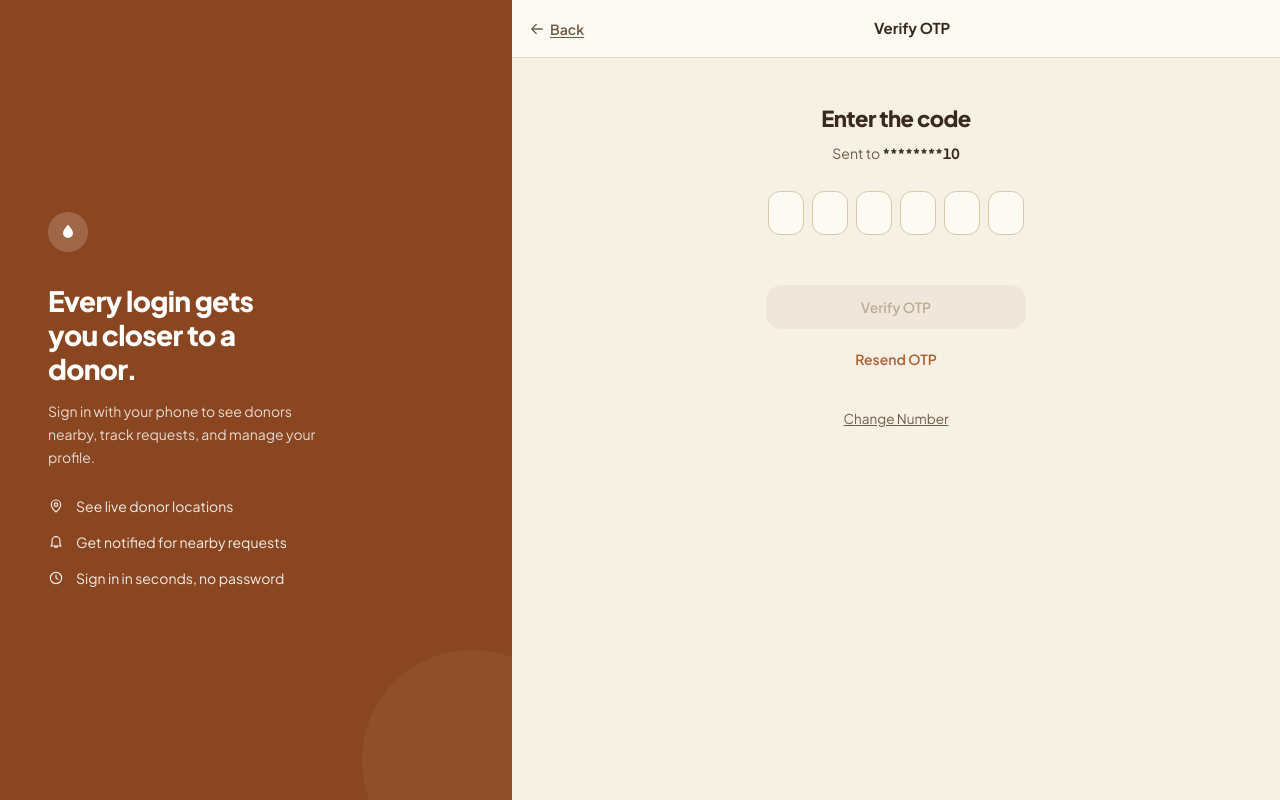
Test: OtpVerificationPage › TC-CHH-F01-44: shows a resend error and keeps Resend usable if resend fails
What coordinates should you click on to do the following:
click the button "Resend OTP"
I would click on:
 (896, 359)
Its box is [855, 349, 937, 369].
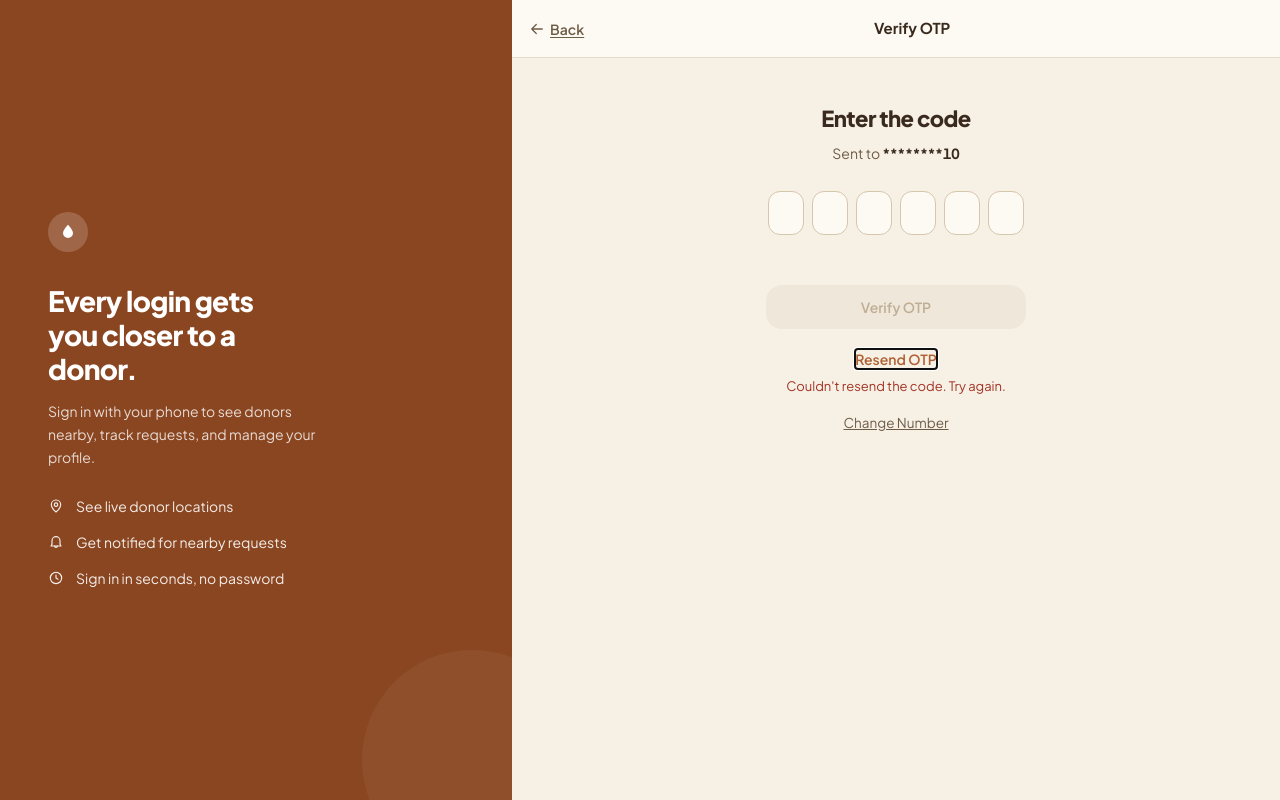
Result: the text "Couldn't resend the code. Try again." is shown at [786, 377, 1006, 396]
